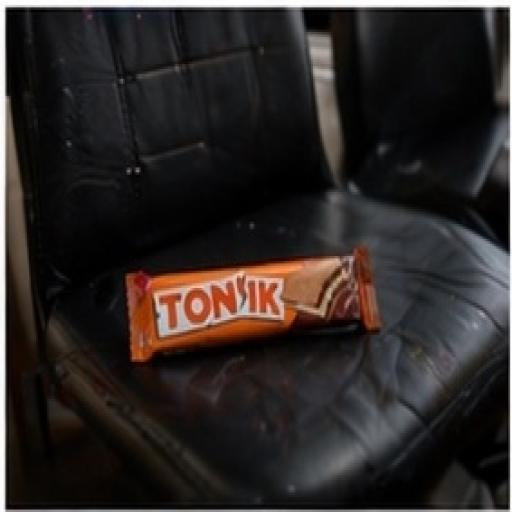tonik: (50, 145, 416, 419)
